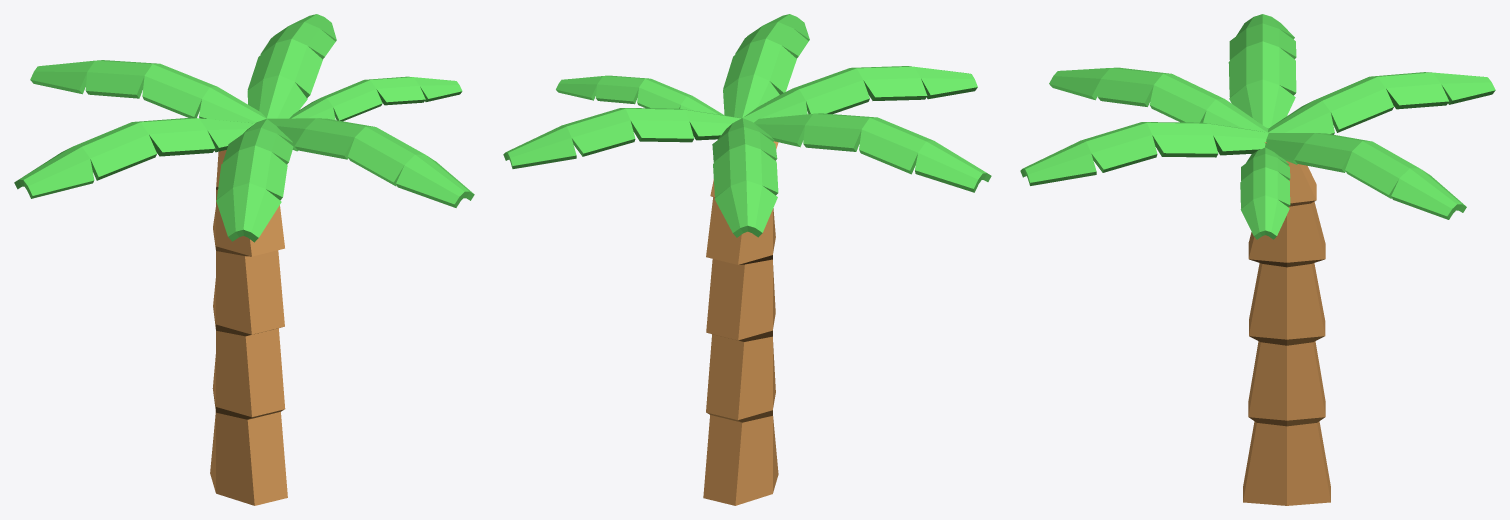
The model's file is palm_tree.glb.
3 views of the same model, side by side, from view 1: azimuth 30°, elevation 25°; view 2: azimuth 150°, elevation 25°; view 3: azimuth 270°, elevation 25° (orthographic). The views are drawn at different scales.
Visible parts, largest first — view 1: Trunk, Plane.002, Plane.006, Plane.003, Plane.005, Plane.007, Plane.001; view 2: Trunk, Plane.002, Plane.007, Plane.005, Plane.006, Plane.003, Plane.001; view 3: Trunk, Plane.003, Plane.006, Plane.007, Plane.005, Plane.002, Plane.001.
Part boxes in pixels (box(x1,y1,x2,y2)): Trunk: box(210, 150, 287, 505); Plane.002: box(14, 117, 254, 198); Plane.006: box(30, 60, 266, 123); Plane.003: box(267, 118, 474, 207); Plane.005: box(216, 119, 293, 242); Plane.007: box(247, 14, 336, 118); Plane.001: box(289, 76, 462, 121); Trunk: box(703, 141, 778, 505); Plane.002: box(754, 113, 991, 192); Plane.007: box(503, 108, 740, 168); Plane.005: box(743, 66, 977, 122); Plane.006: box(712, 118, 778, 237); Plane.003: box(723, 14, 809, 118); Plane.001: box(556, 75, 724, 115); Trunk: box(1243, 142, 1330, 505); Plane.003: box(1020, 122, 1268, 185); Plane.006: box(1268, 72, 1495, 134); Plane.007: box(1265, 133, 1466, 219); Plane.005: box(1049, 67, 1268, 132); Plane.002: box(1228, 14, 1296, 128); Plane.001: box(1240, 147, 1290, 239).
Bounding box in the file's own units: 7.13 × 6.3 × 6.88.
